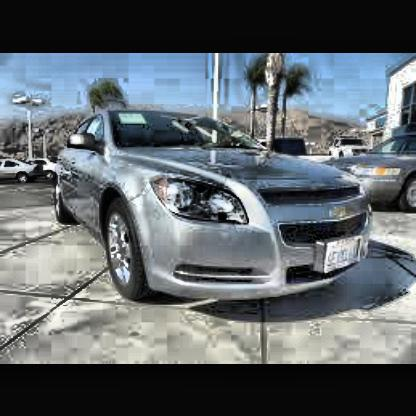Chevrolet Malibu Hybrid Sedan 2010: (52, 109, 374, 306)
